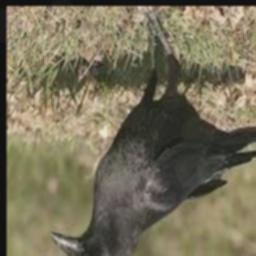Crow: (51, 6, 256, 256)
